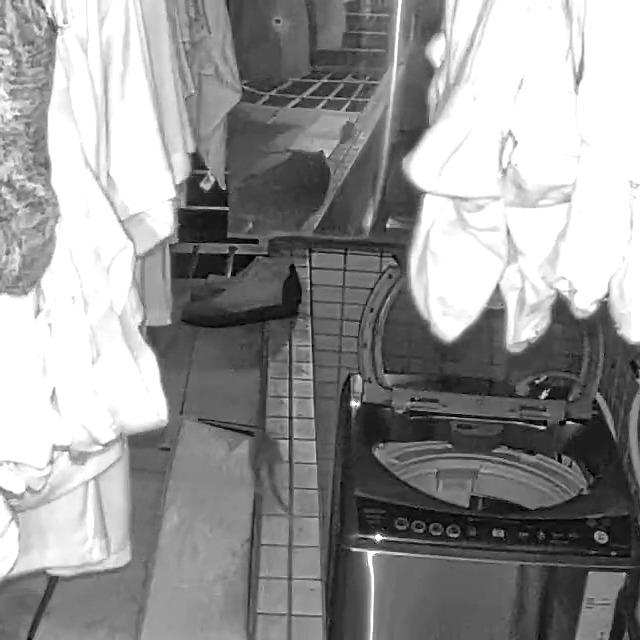rat: (248, 430, 301, 524)
